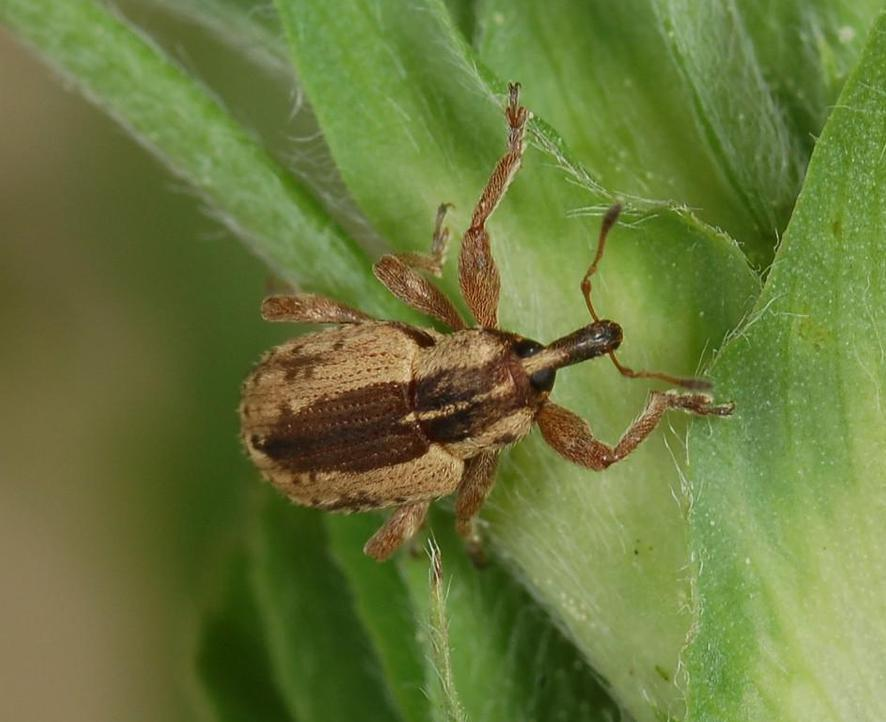weevils: (156, 34, 774, 624)
